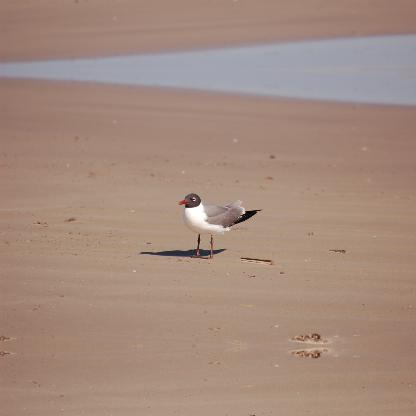Bird: (178, 192, 262, 260)
